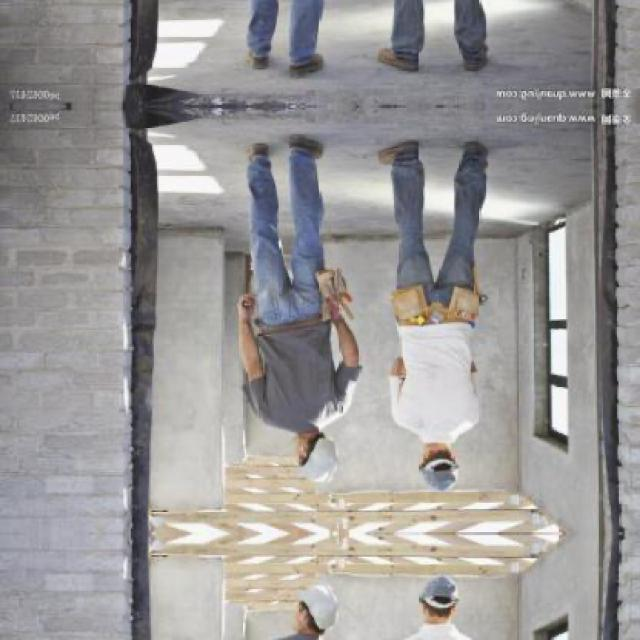con casco: (283, 416, 349, 493)
